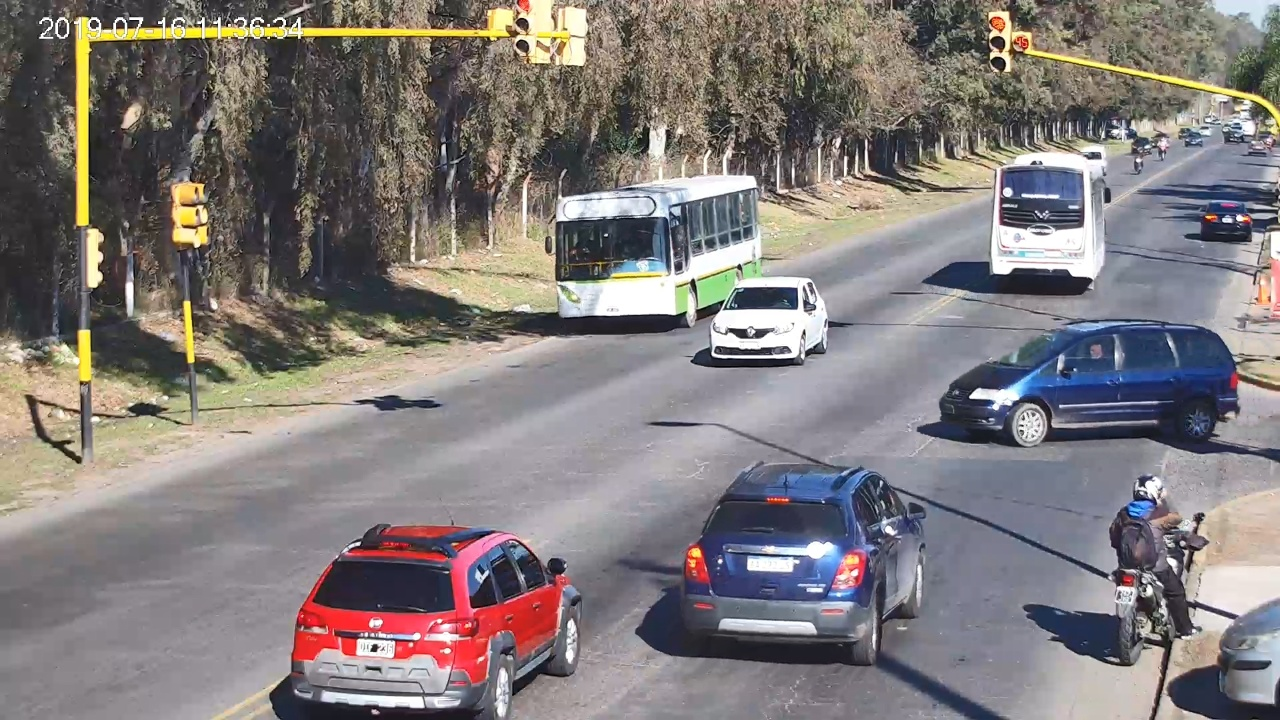car: (291, 524, 582, 720), (680, 461, 928, 665)
front car: (709, 276, 828, 365)
motorcycle: (1108, 501, 1202, 665)
traffic light: (989, 11, 1009, 71)
